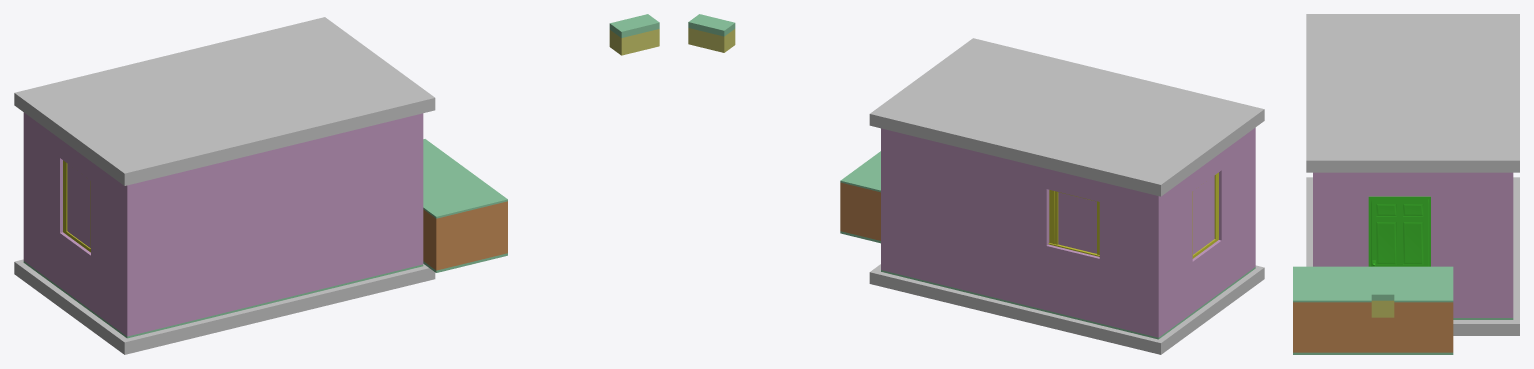
Rendered from FloorPlan11.fbx.
The picture shows the model from 3 angles, left to right: view 1: azimuth 30°, elevation 25°; view 2: azimuth 150°, elevation 25°; view 3: azimuth 270°, elevation 25°; orthographic projection. The views are drawn at different scales.
Visible parts, largest first — view 1: StandardWallSize, Ceiling, StandardIslandHeight1, Floor, StandardUpperCabinetWindow, StandardWindowPane1; view 2: StandardWallSize, Ceiling, Floor, StandardIslandHeight1, StandardWindowPane2, StandardUpperCabinetWindow, StandardWindowPane1, WindowTreatment1 (2); view 3: Ceiling, StandardWallSize, StandardIslandHeight1, StandardDoor1, Floor, StandardUpperCabinetWindow, StandardDoorFrame1.
Part boxes in pixels (x1,y1,x2,y2): StandardWallSize: (23,112,423,338); Ceiling: (14,17,435,185); StandardIslandHeight1: (423,139,507,272); Floor: (14,259,435,354); StandardUpperCabinetWindow: (609,14,659,55); StandardWindowPane1: (67,163,90,247); StandardWallSize: (881,127,1255,339); Ceiling: (869,38,1264,196); Floor: (869,264,1264,354); StandardIslandHeight1: (840,151,880,243); StandardWindowPane2: (1058,192,1096,253); StandardUpperCabinetWindow: (688,14,735,52); StandardWindowPane1: (1193,175,1214,254); WindowTreatment1 (2): (1048,190,1099,256); Ceiling: (1306,14,1519,172); StandardWallSize: (1313,172,1513,319); StandardIslandHeight1: (1293,266,1453,354); StandardDoor1: (1371,199,1428,266); Floor: (1306,177,1519,335); StandardUpperCabinetWindow: (1371,276,1394,317); StandardDoorFrame1: (1368,196,1430,266).
Size of the model in its own units: 952 by 290 by 340.
